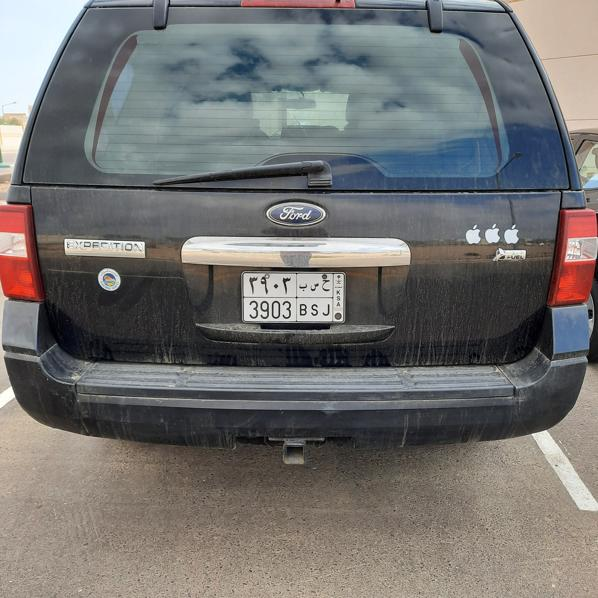numberplate: (242, 271, 345, 321)
